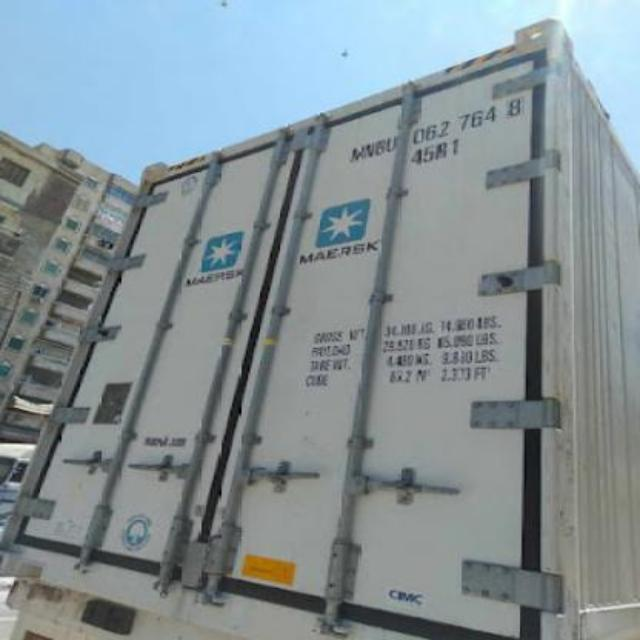0: (411, 119, 424, 145)
2: (438, 112, 454, 136)
4: (486, 98, 499, 134)
6: (468, 95, 484, 135), (424, 115, 438, 142)
7: (454, 106, 468, 134)
8: (504, 92, 526, 121)
B: (374, 134, 386, 158)
M: (340, 140, 366, 163)
N: (362, 136, 376, 162)
U: (382, 128, 396, 158)
